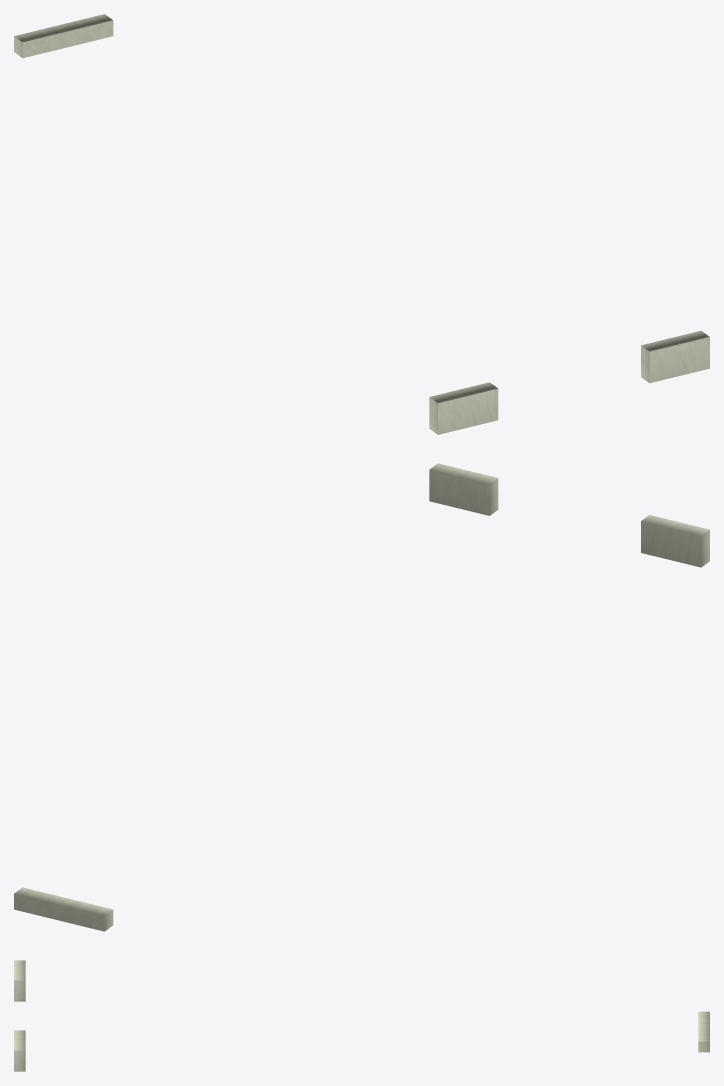
The picture shows the model from 3 angles, top to bottom: view 1: azimuth 30°, elevation 25°; view 2: azimuth 150°, elevation 25°; view 3: azimuth 270°, elevation 25°; orthographic projection. The views are drawn at different scales.
Size of the model in its own units: 1.44 by 0.24 by 4.72.
1 material, 1 textured.
